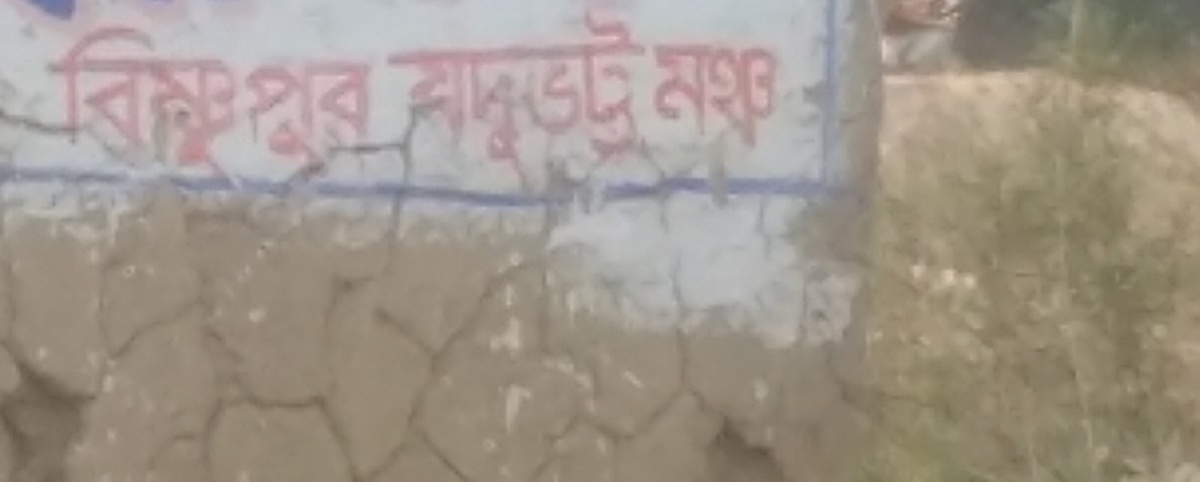text: (385, 4, 400, 189), (401, 4, 416, 189), (417, 4, 432, 189), (433, 4, 448, 189), (449, 4, 464, 189), (465, 4, 480, 189), (481, 4, 496, 189), (497, 4, 512, 189), (513, 4, 528, 189), (529, 4, 544, 189), (545, 4, 560, 189), (561, 4, 576, 189), (577, 4, 592, 189), (593, 4, 608, 189), (609, 4, 624, 189), (625, 4, 640, 189), (49, 20, 64, 192), (65, 20, 80, 192), (81, 20, 96, 192), (97, 20, 112, 192), (113, 20, 128, 192), (129, 20, 144, 192), (145, 20, 160, 192), (161, 20, 176, 192), (177, 20, 192, 192), (193, 20, 208, 192), (209, 20, 224, 192), (225, 20, 240, 192), (241, 20, 256, 192), (257, 20, 272, 192), (273, 20, 288, 192), (289, 20, 304, 192), (305, 20, 320, 192), (321, 20, 336, 192), (337, 20, 352, 192), (353, 20, 368, 192), (641, 4, 653, 189), (657, 36, 672, 151), (673, 36, 688, 151), (689, 36, 704, 151), (705, 36, 720, 151), (721, 36, 736, 151), (737, 36, 752, 151), (753, 36, 768, 151), (769, 36, 781, 151), (369, 20, 377, 192), (377, 4, 384, 189), (43, 20, 48, 192), (653, 36, 656, 151), (33, 2, 48, 22), (49, 2, 64, 22), (65, 2, 79, 22), (31, 2, 32, 22)
